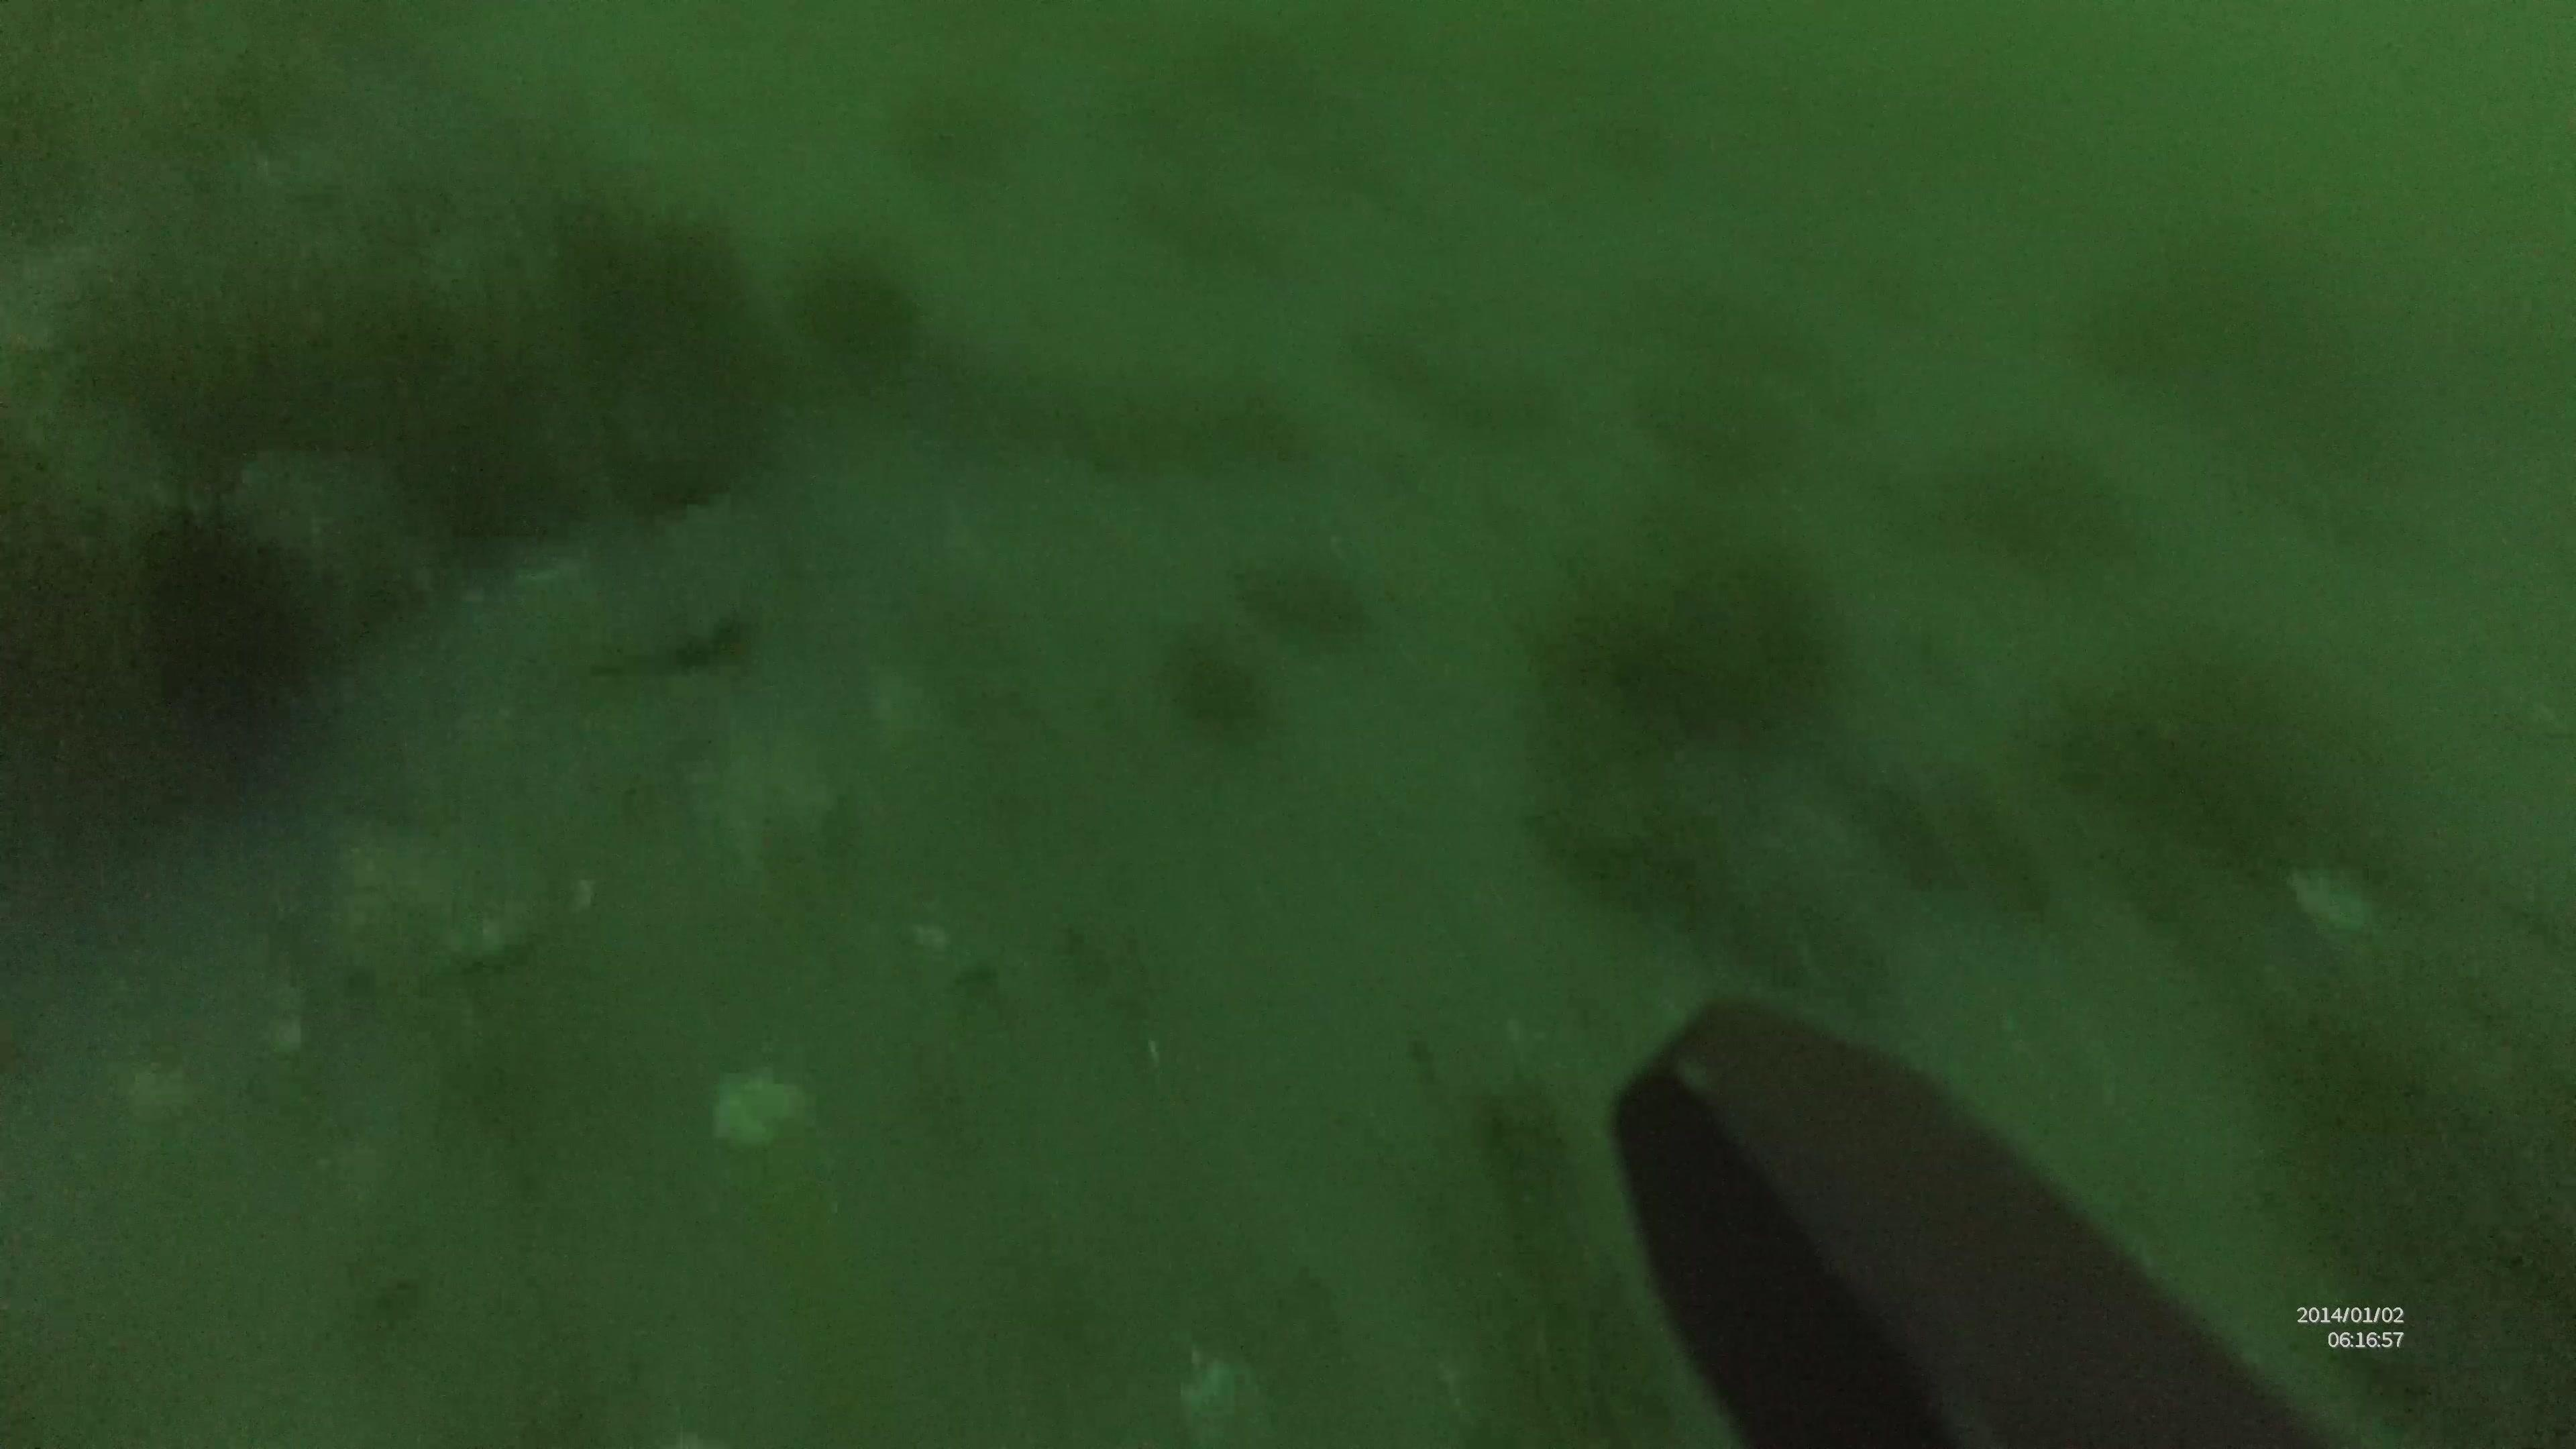echinus: (124, 508, 333, 732), (787, 248, 927, 395)
